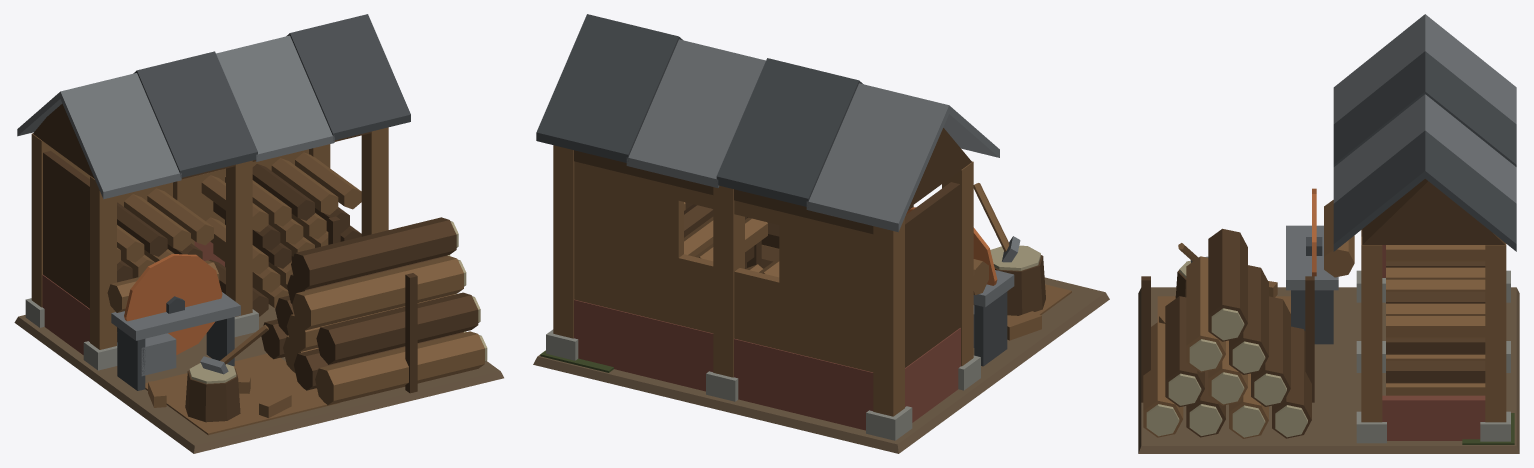
Rendered from woodcutter_l2.glb.
The picture shows the model from 3 angles, left to right: view 1: azimuth 30°, elevation 25°; view 2: azimuth 150°, elevation 25°; view 3: azimuth 270°, elevation 25°; orthographic projection. The views are drawn at different scales.
Parts seen in each view (by area): view 1: woodcutter_props, woodcutter_structure, woodcutter_roof; view 2: woodcutter_structure, woodcutter_roof, woodcutter_props; view 3: woodcutter_props, woodcutter_structure, woodcutter_roof.
Part boxes in pixels (x1,y1,x2,y2): woodcutter_props: (107,152,487,422); woodcutter_structure: (14,103,503,453); woodcutter_roof: (17,14,410,199); woodcutter_structure: (533,128,1109,453); woodcutter_roof: (536,14,999,232); woodcutter_props: (684,183,1045,366); woodcutter_props: (1141,188,1485,438); woodcutter_structure: (1138,179,1519,453); woodcutter_roof: (1333,14,1516,251).
Size of the model in its own units: 4 by 3.27 by 4.
